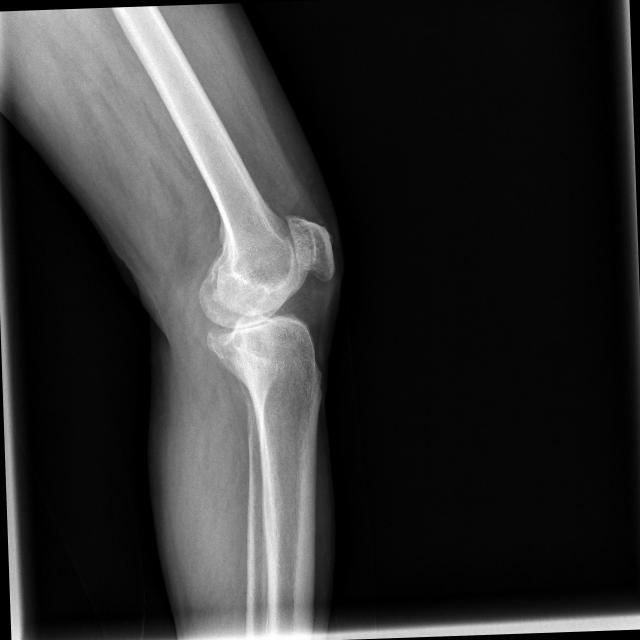Knee: (194, 214, 338, 364)
